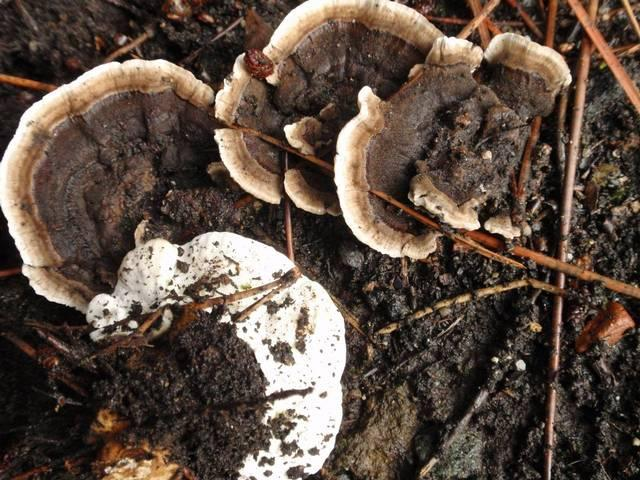poisonous_mushroom: (159, 4, 567, 228), (82, 228, 348, 479), (0, 56, 226, 313)
